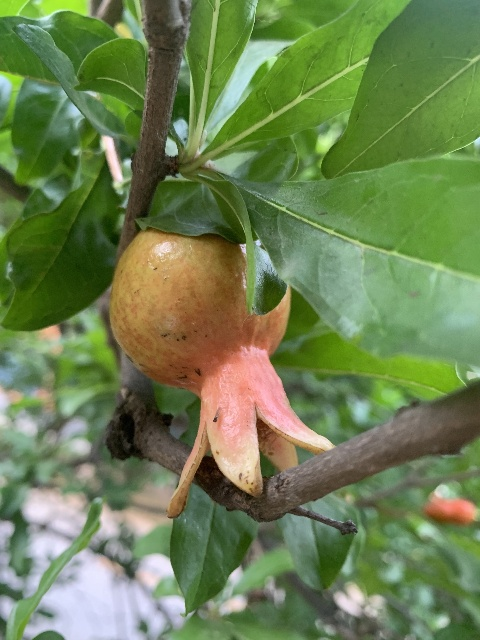bud: (423, 496, 477, 526)
early-fruit: (109, 232, 334, 522)
